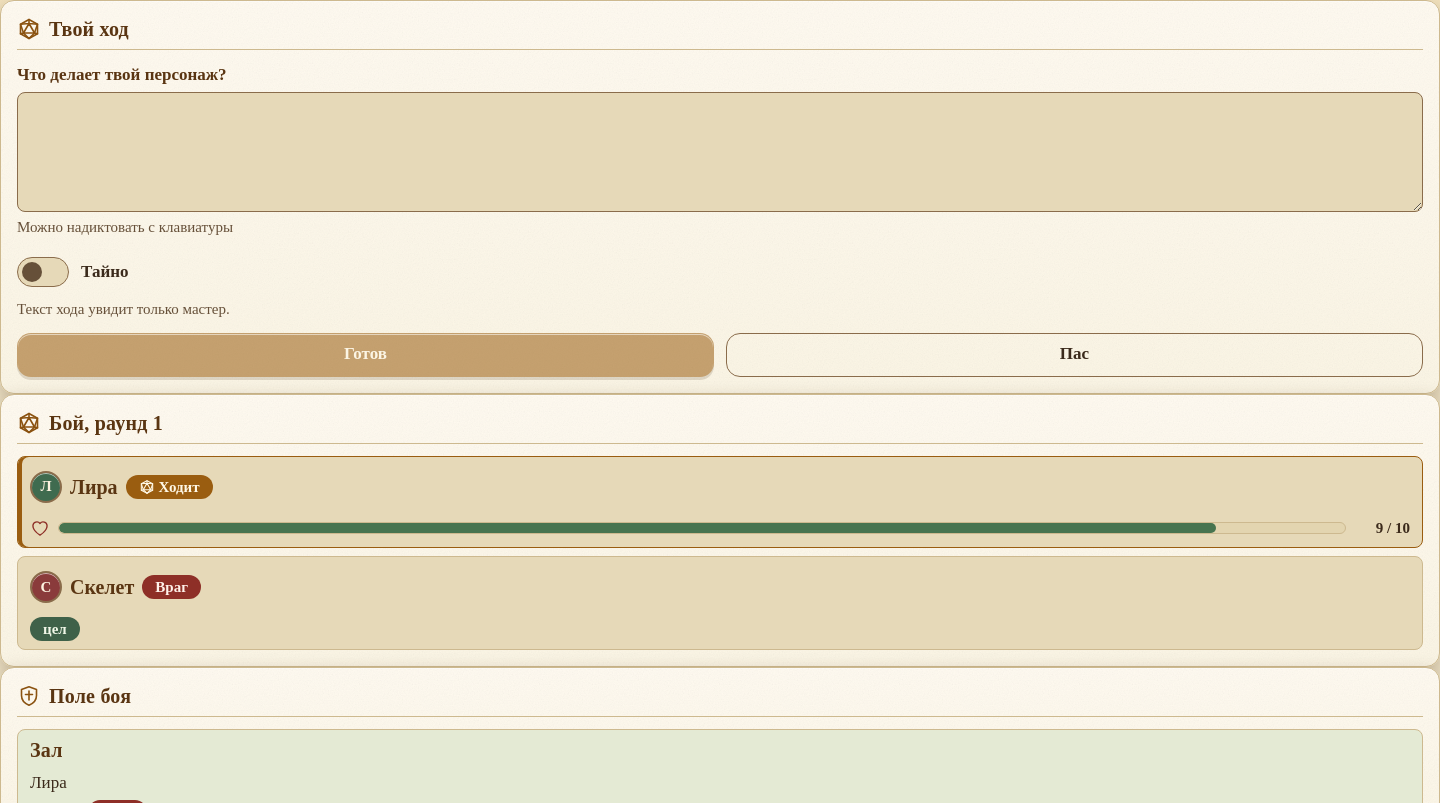
Scenario: поле хода — только у текущего героя › сдать ход: черновик уходит перед «Готов», ответ «Ход сдан»
Type "Бью скелета мечом" into the text box labelled "Что делает твой персонаж?".
click(720, 152); type("Бью скелета мечом")  # box [17,92,1423,212]
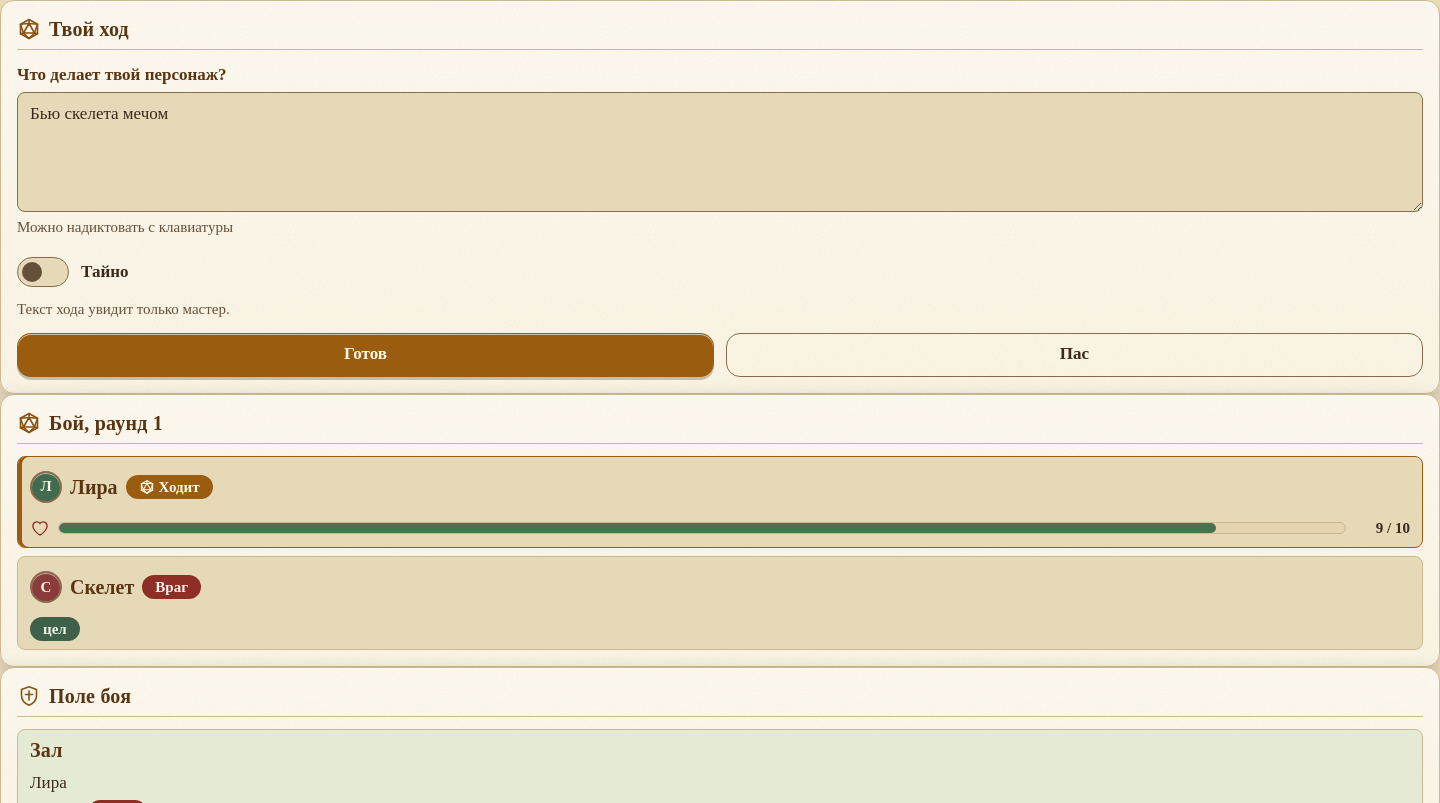
Click the button "Готов".
click(366, 354)  # box [17,332,714,376]
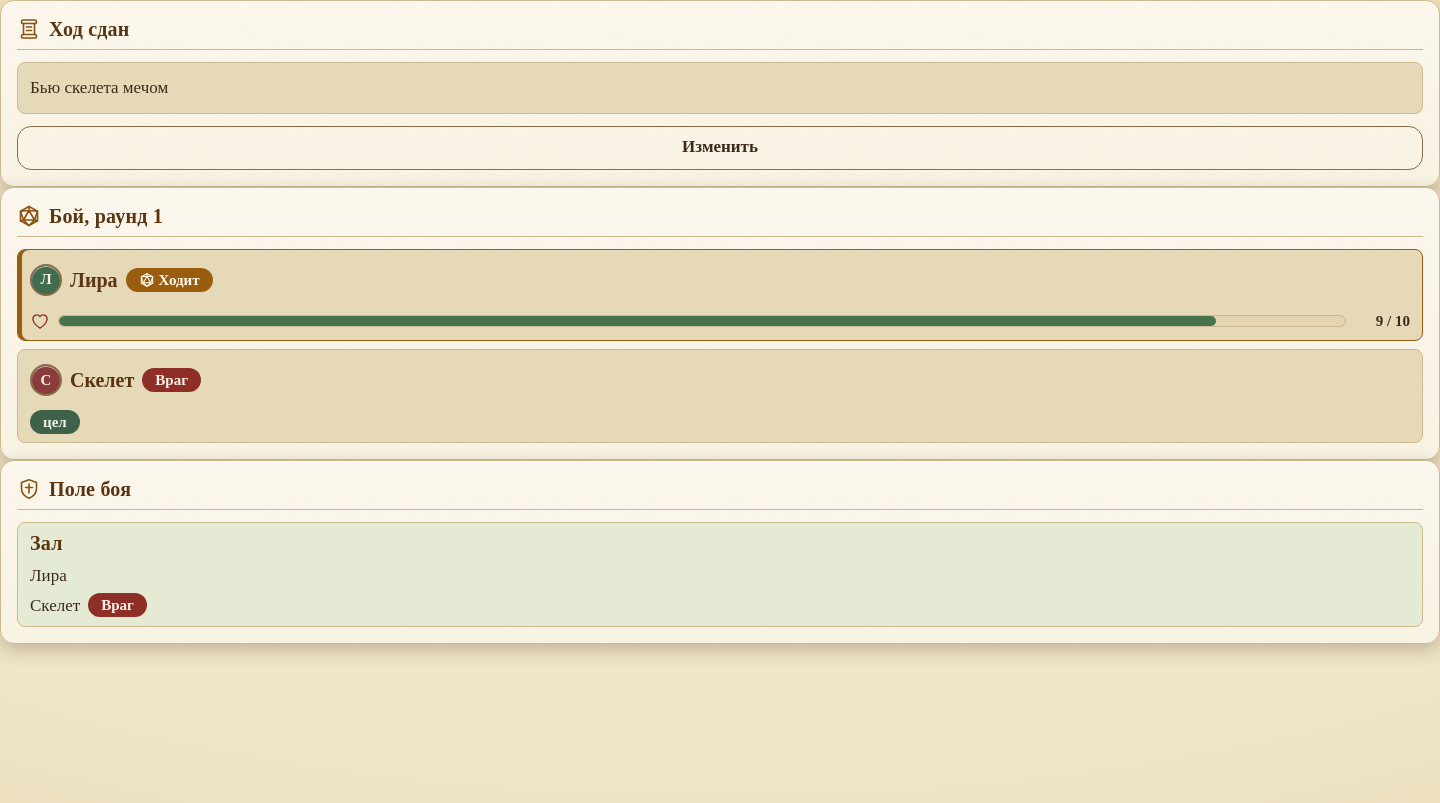
expect the heading "Ход сдан" is shown: met, box [49,17,130,41]
